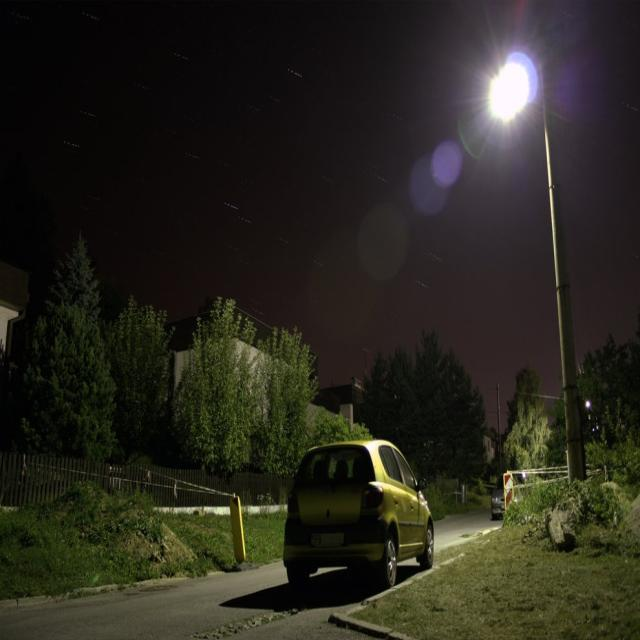car: (282, 423, 443, 617), (489, 458, 529, 533)
